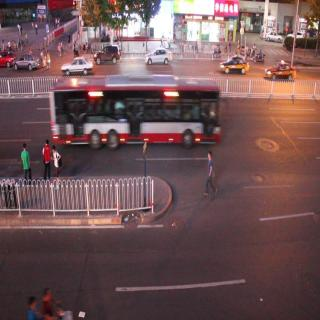BigCar: (48, 73, 224, 149)
Car: (60, 52, 93, 78), (218, 52, 249, 78), (263, 58, 297, 81), (143, 44, 173, 70), (93, 42, 121, 68), (14, 50, 40, 74)
